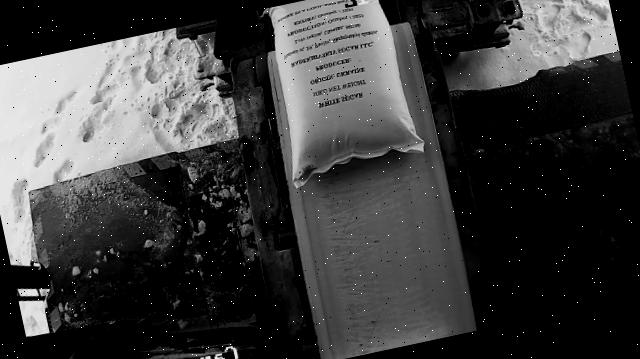bag: (256, 0, 427, 188)
